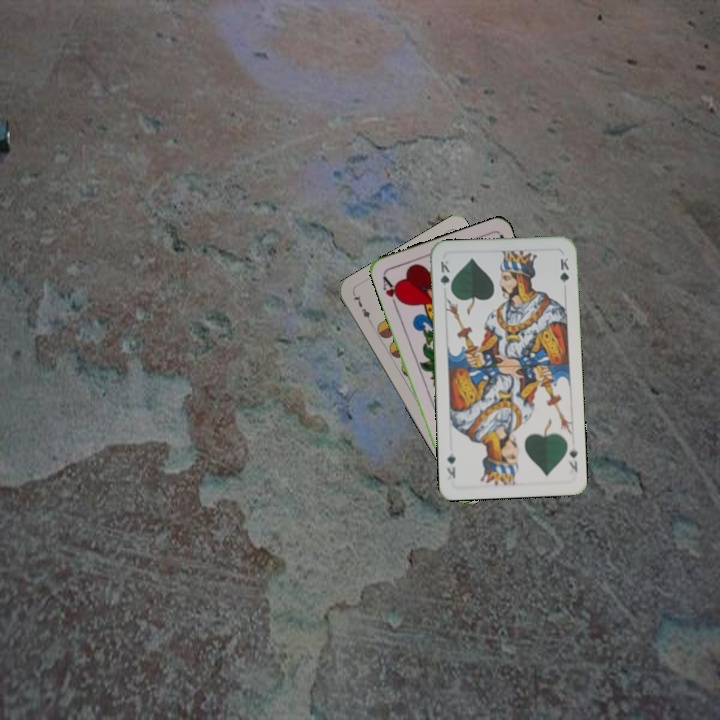E7: (349, 290, 375, 327)
GK: (436, 256, 454, 295), (565, 445, 580, 475)
HA: (379, 272, 404, 310)
